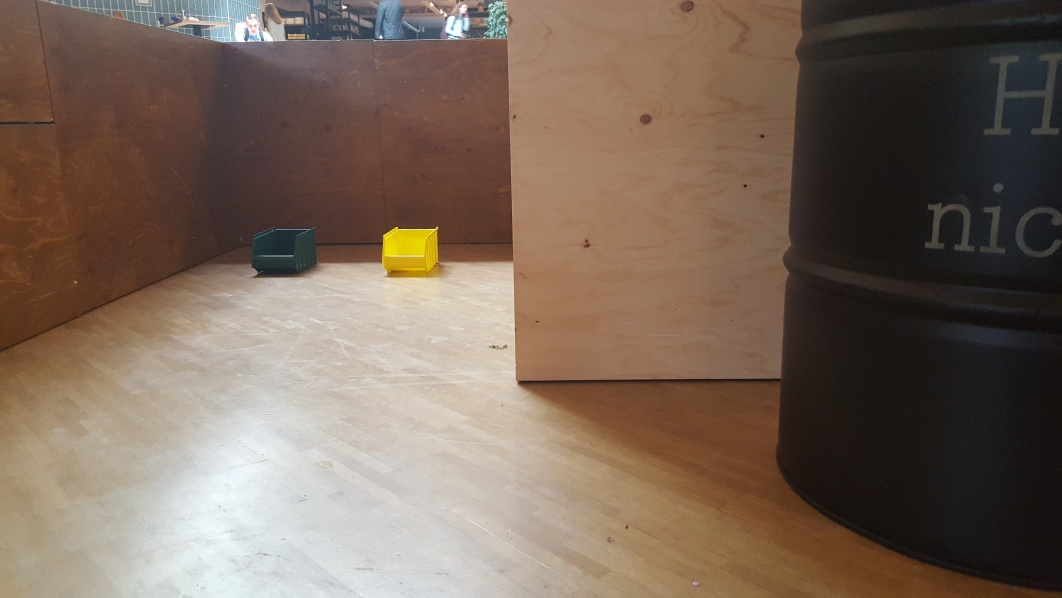tray: (249, 226, 317, 275), (379, 225, 442, 273)
